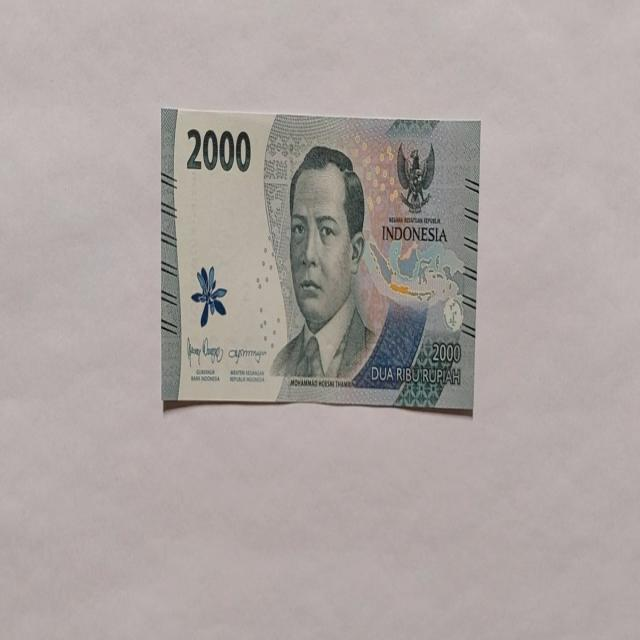dua ribu rupiah: (160, 108, 480, 412), (268, 144, 378, 382)
